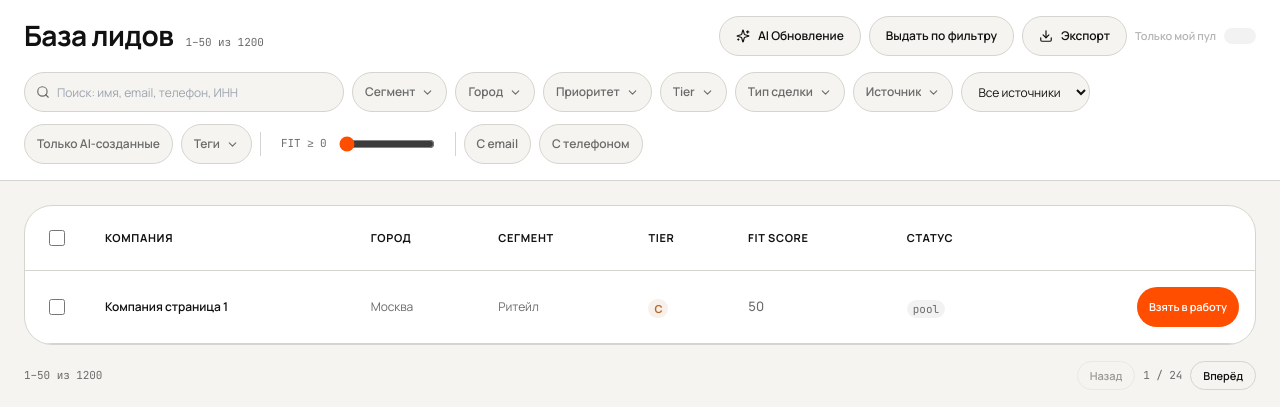
Test: База лидов — выборку определяет сервер › листание запрашивает у сервера именно ту страницу
The image size is (1280, 407).
Check: the text "Компания страница 1" is shown, box [105,298,228,315]
Click the button "Вперёд". click: (1223, 376)
box: [1190,361,1256,390]
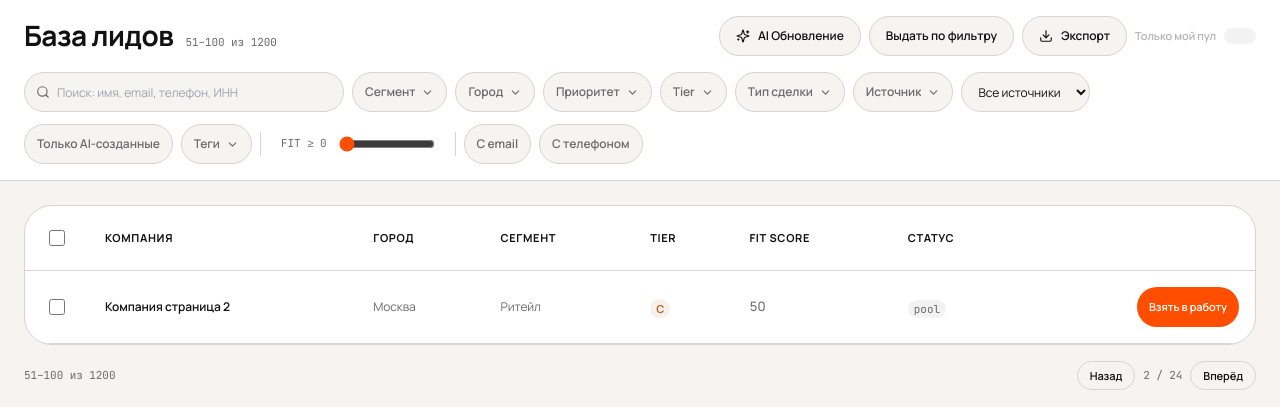
Check: the text "Компания страница 2" is shown, box [105,298,230,315]
